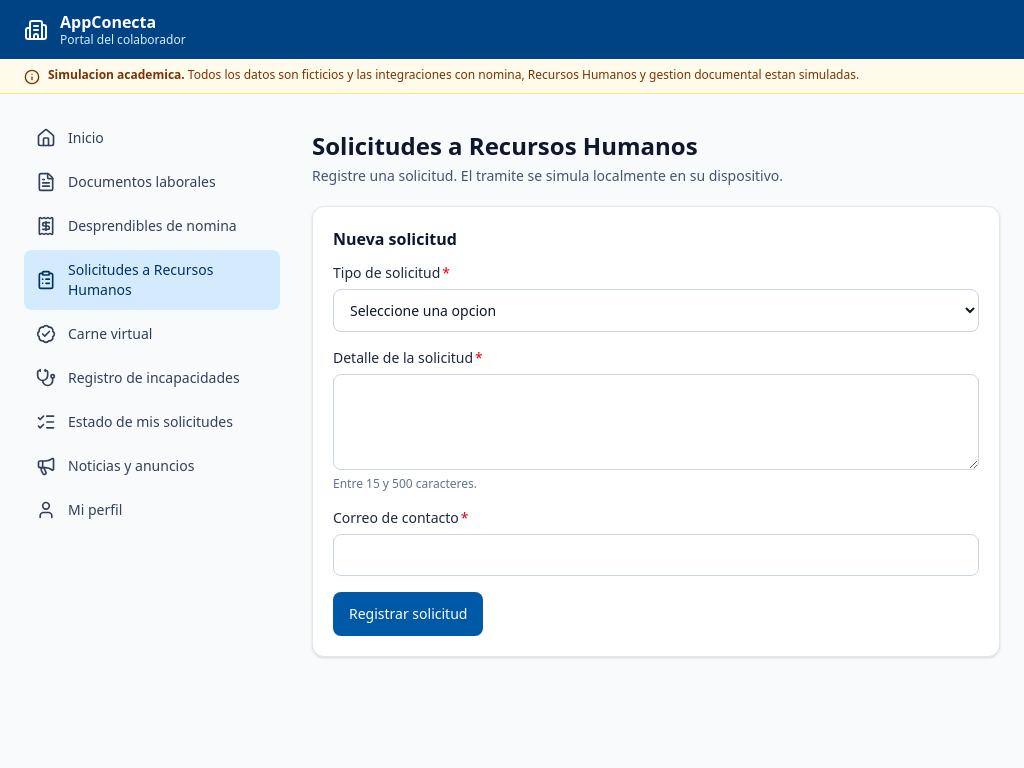
Test case: Creacion de solicitudes a Recursos Humanos › informa los errores de validacion sin registrar nada
The width and height of the screenshot is (1024, 768).
Click the button "Registrar solicitud" at (408, 614), box [333,592,483,636]
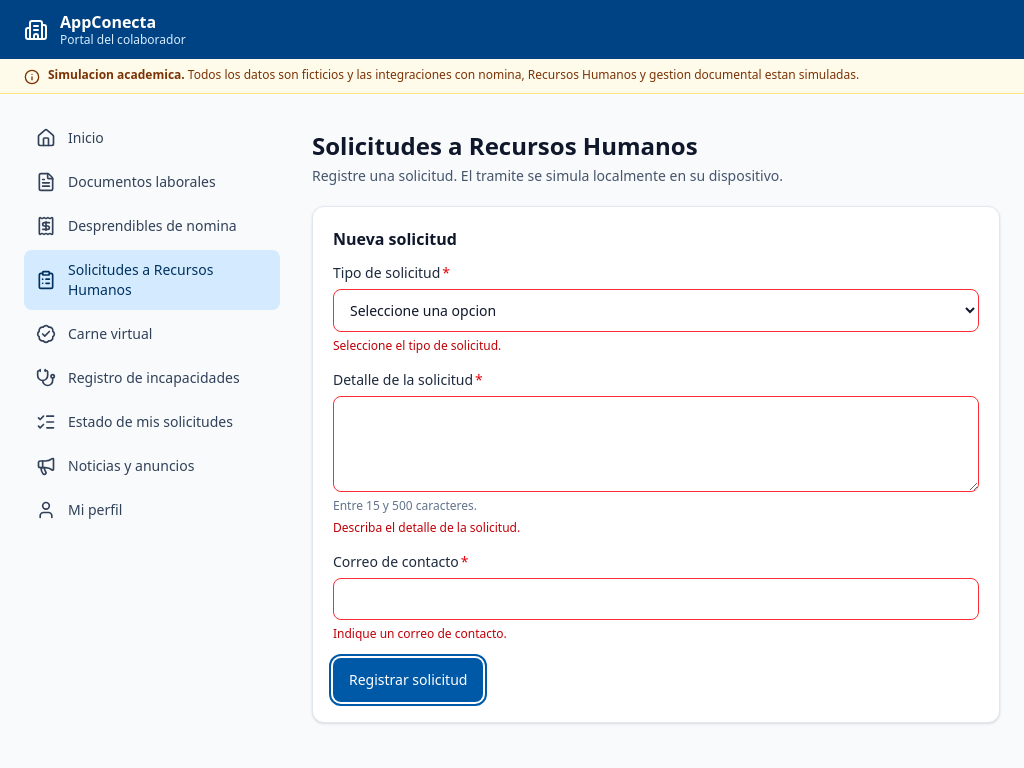
Expected: the text "Seleccione el tipo de solicitud." is shown, [333,337,501,354]
